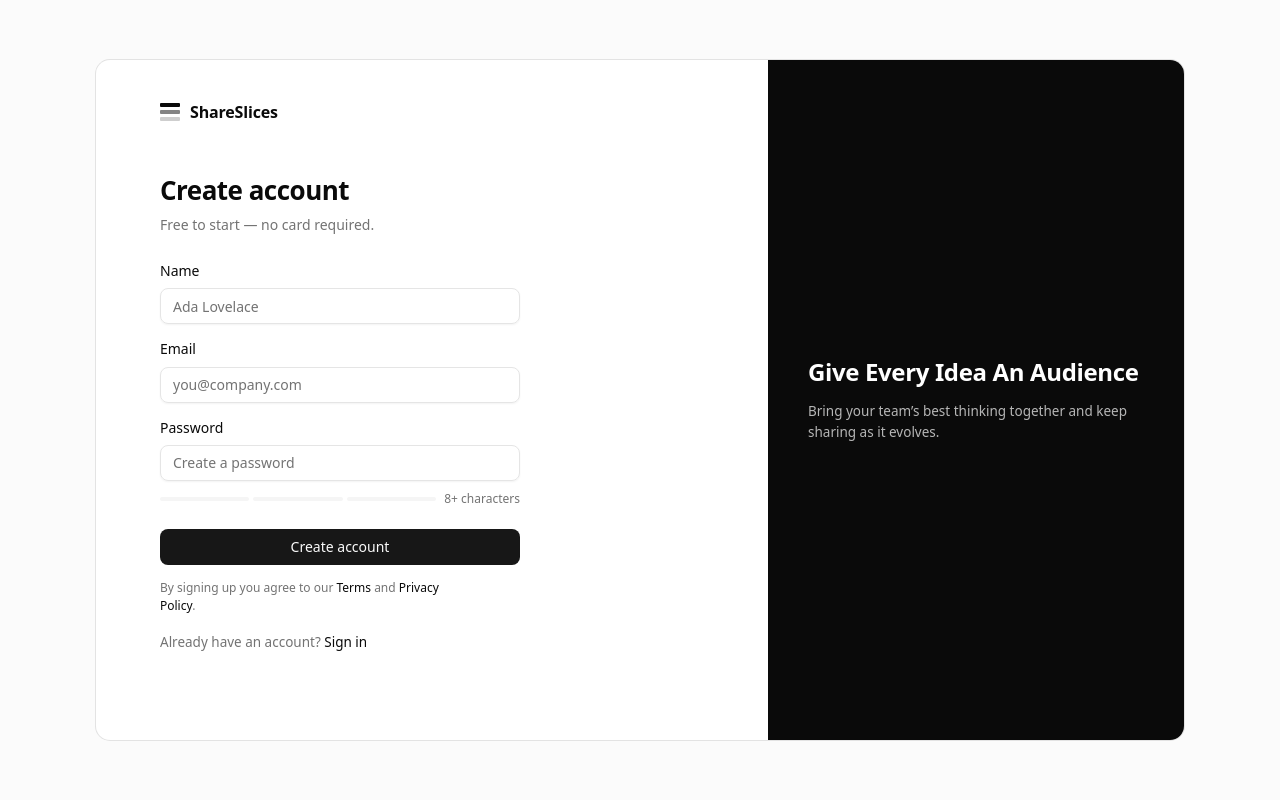
Test case: account entry screens › keeps Signup open and marks an occupied email
Type "Ada Again" into the field labelled "Name" at [340, 306], box [160, 288, 520, 324]
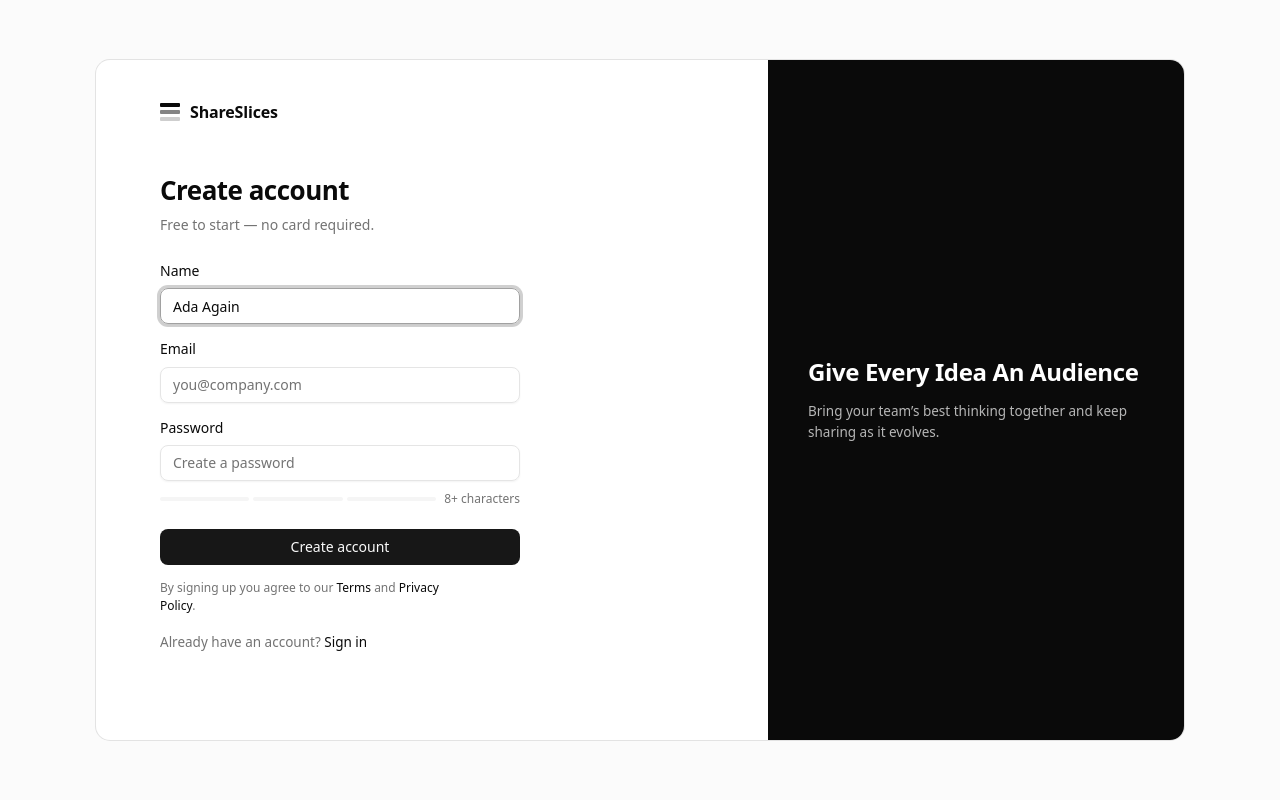
Type "ada@example.com" into the field labelled "Email" at [340, 385], box [160, 367, 520, 403]
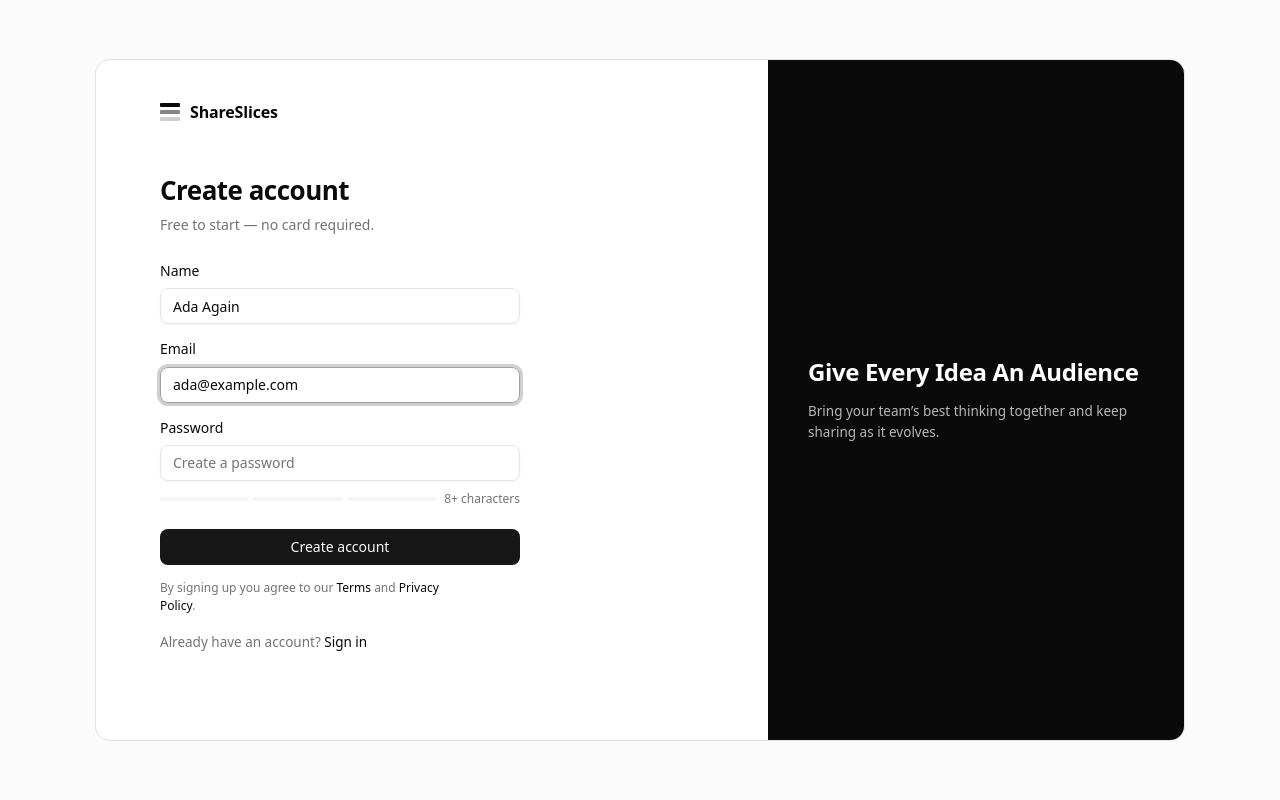
Type "password123" into the password field labelled "Password" at [340, 463], box [160, 445, 520, 481]
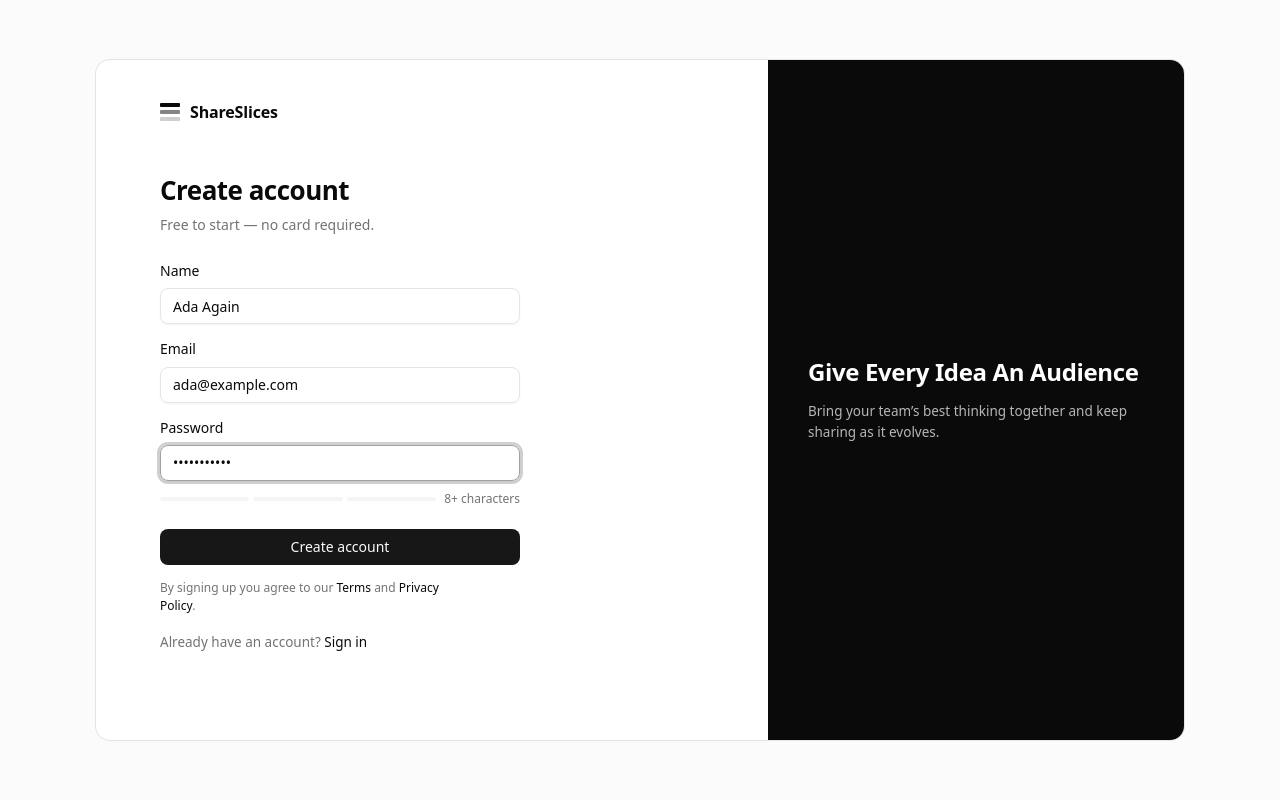
Click the button "Create account" at [340, 547], box [160, 529, 520, 565]
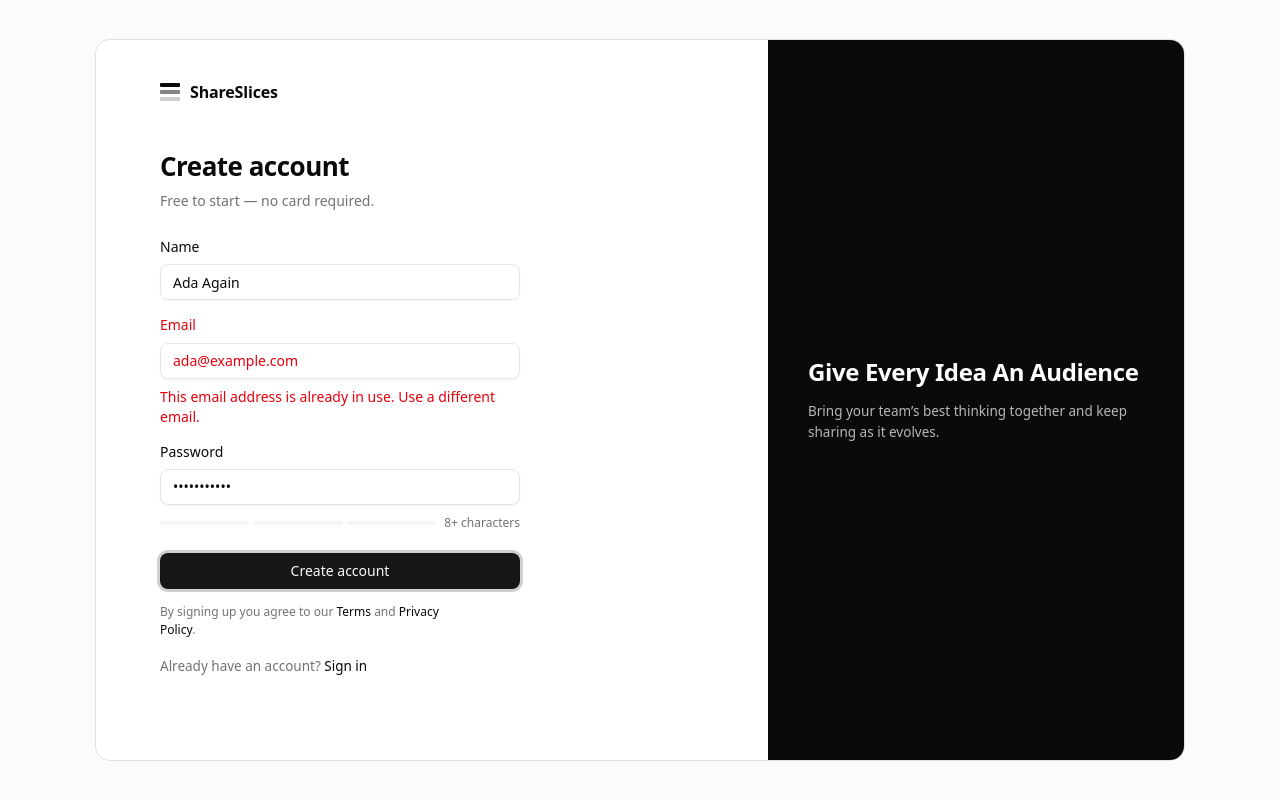
Expected: the heading "Create account" is shown, [160, 148, 349, 184]
Now the text "This email address is already in use. Use a different email." is shown, box [160, 387, 520, 427]
